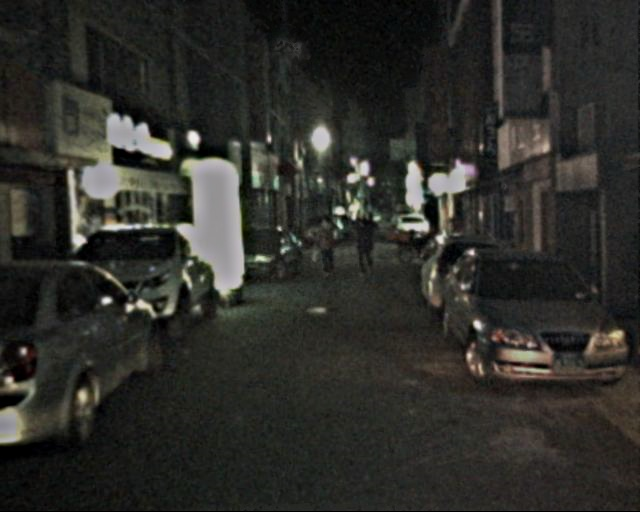person: (350, 218, 377, 285), (312, 218, 337, 280)
